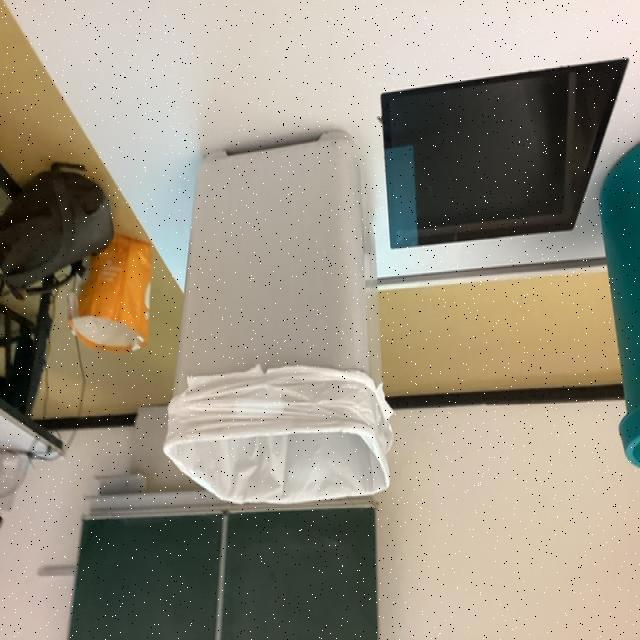garbage container: (151, 123, 411, 524)
